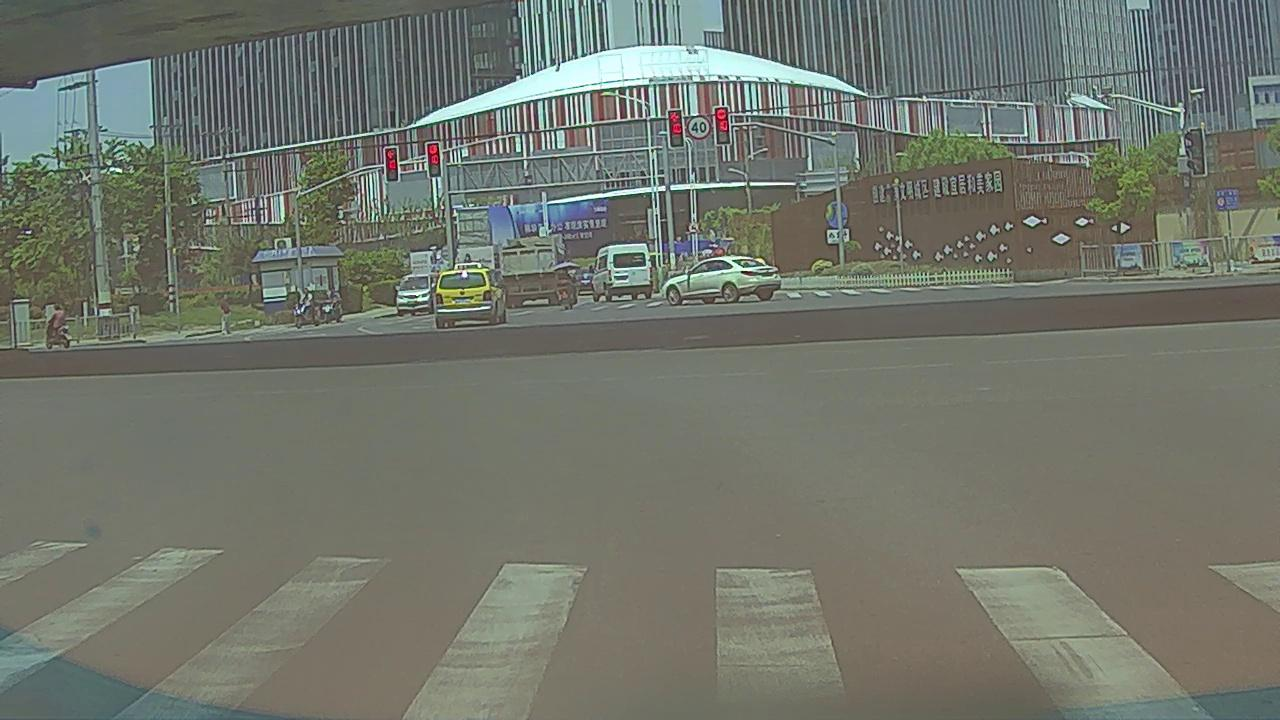traffic_light: (714, 107, 731, 144), (667, 109, 682, 148), (386, 147, 399, 182), (427, 143, 440, 177)
